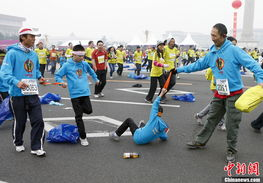10+: (2, 22, 263, 164)
down: (109, 88, 170, 144)
